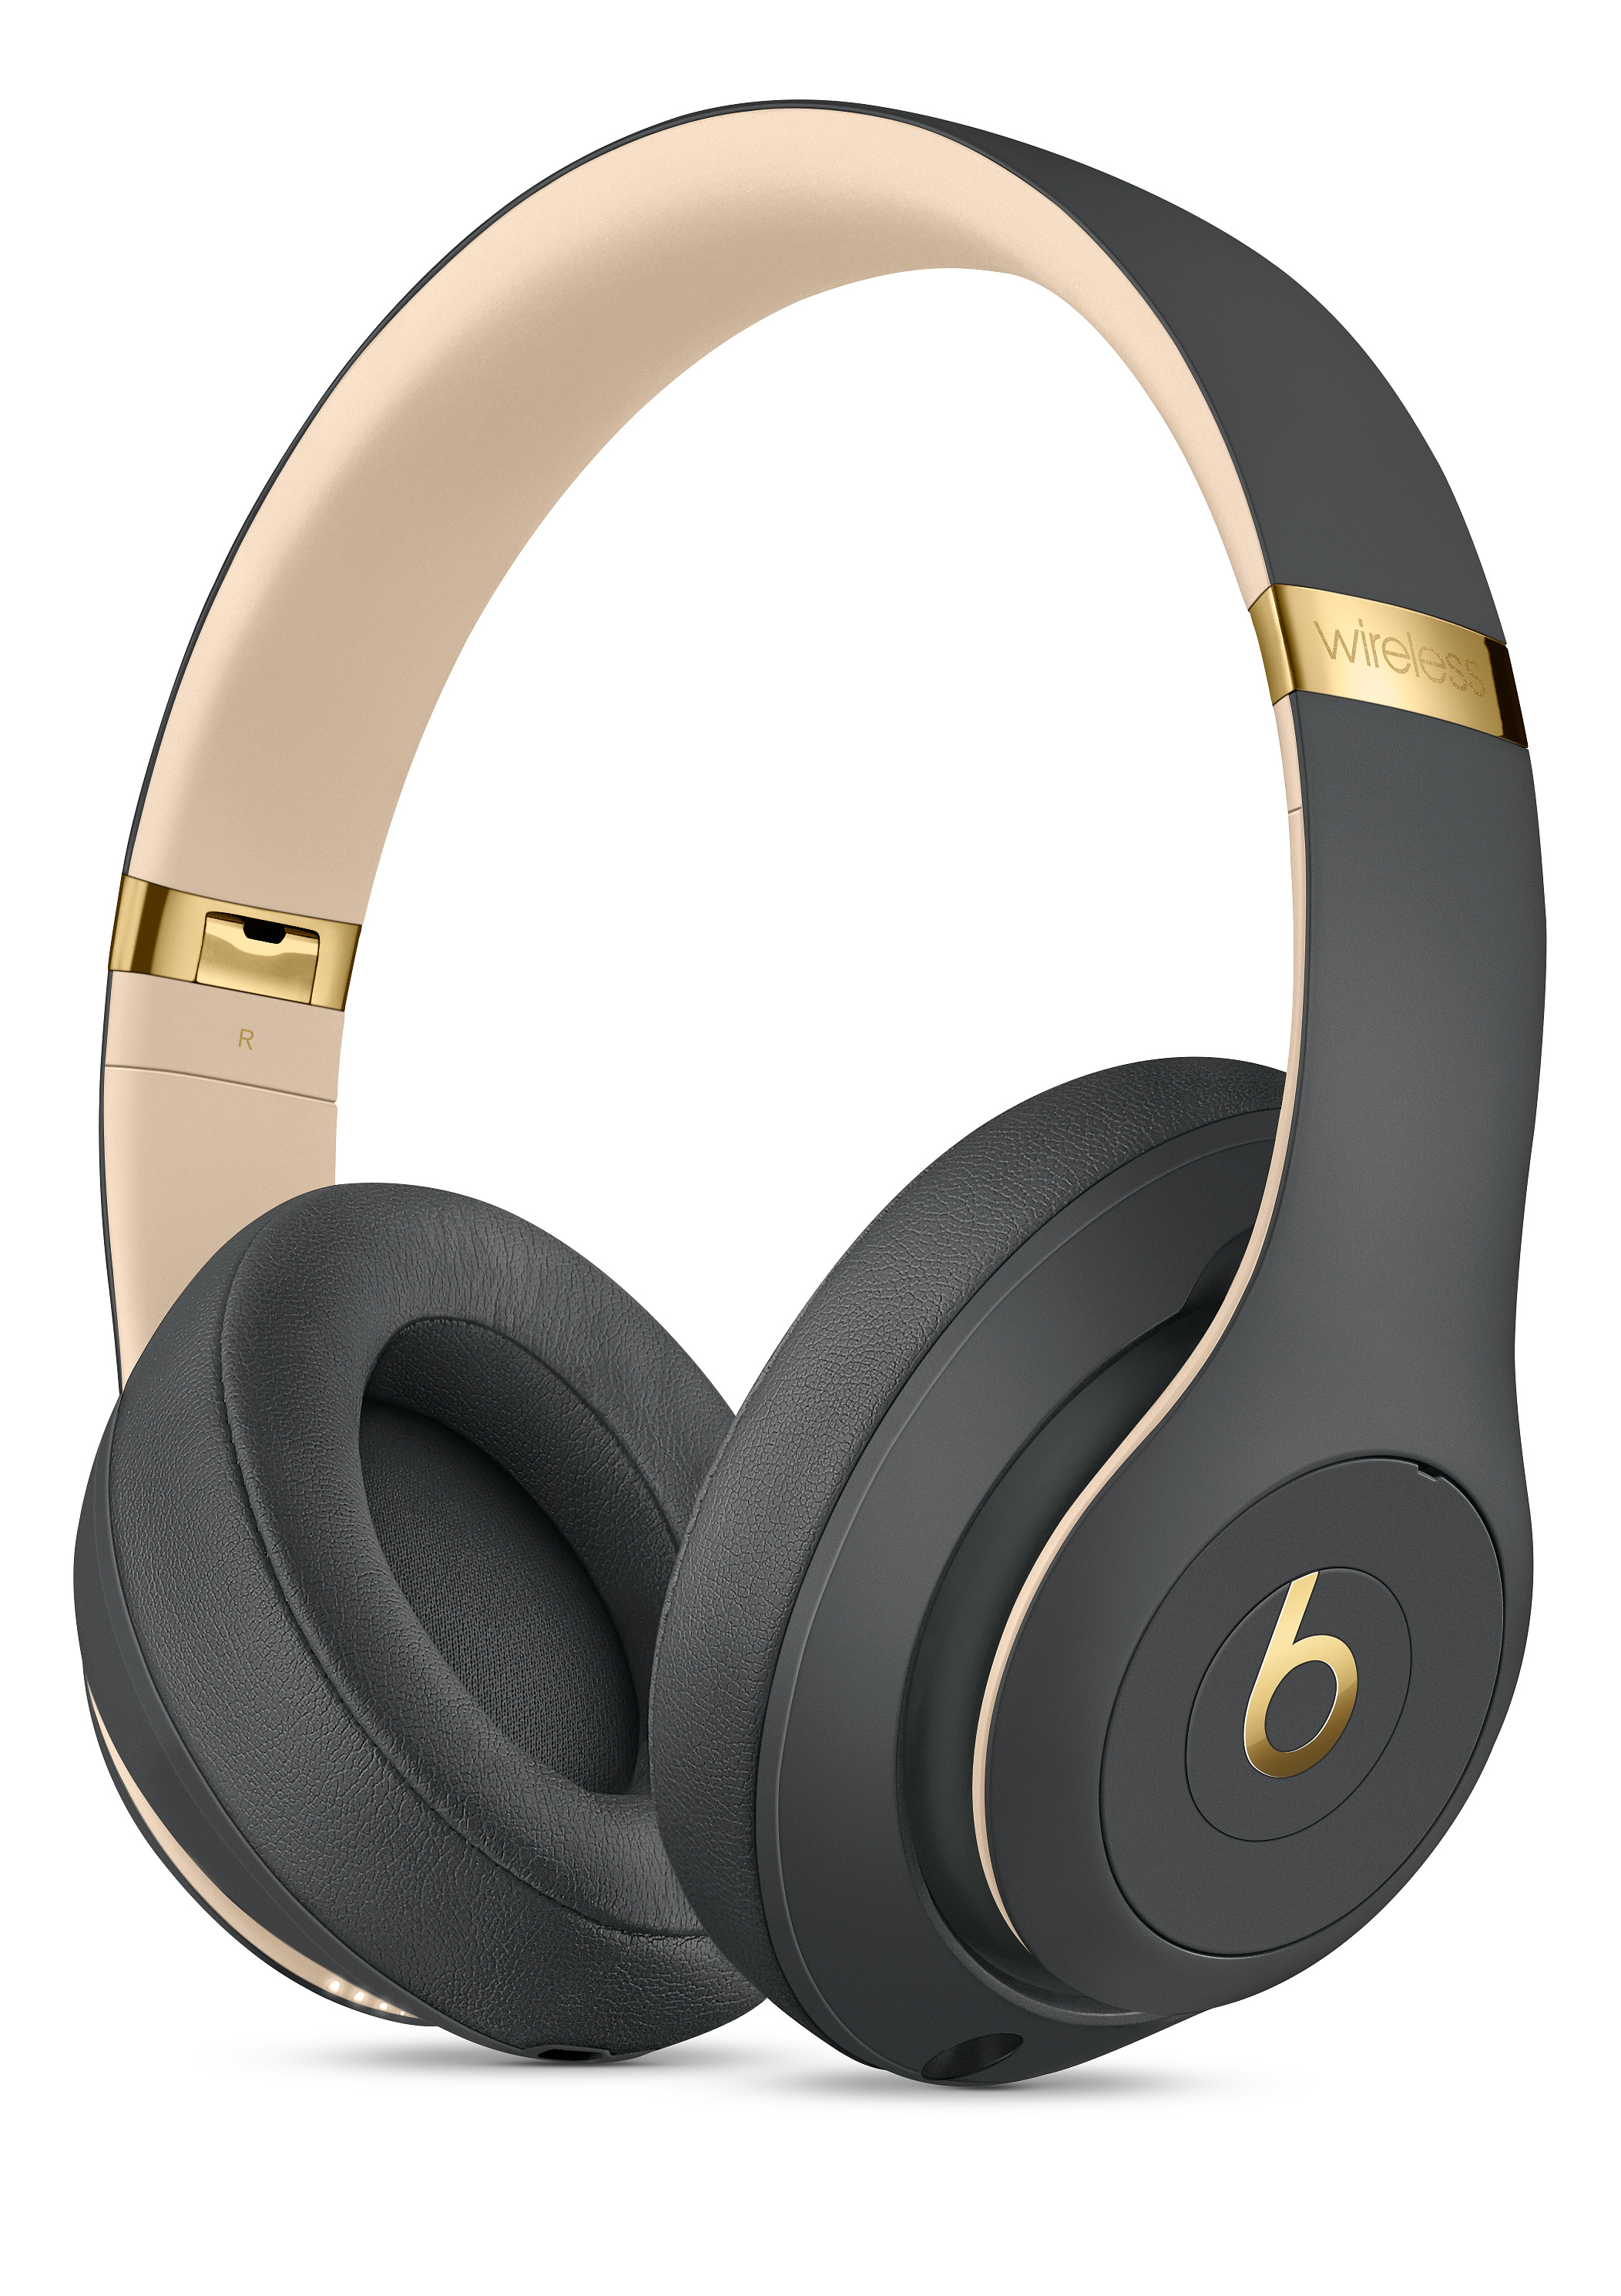Headphone: (40, 89, 1589, 2115)
